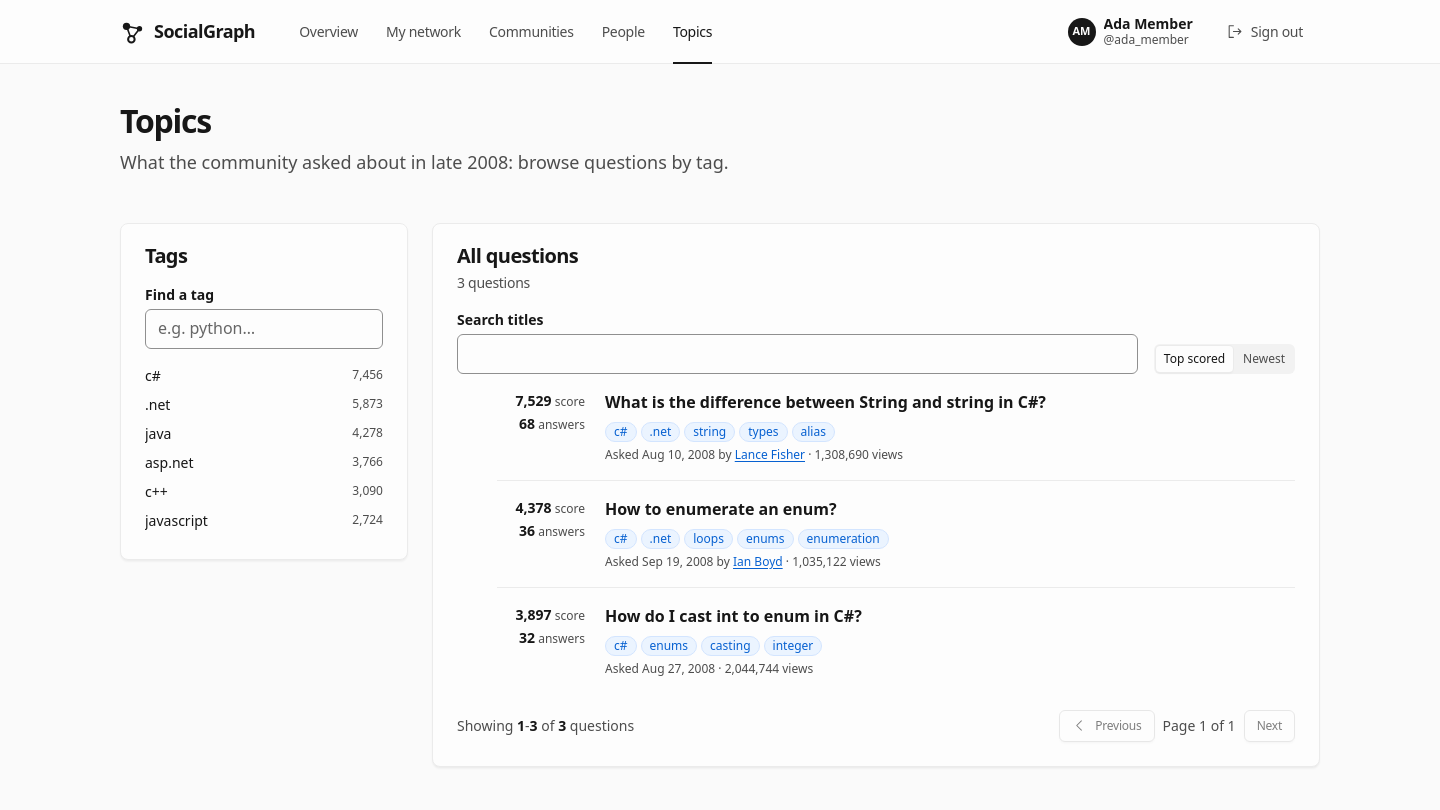
Test: Topics › shows the questions of a tag and clears it again
Expected: the heading "Topics" is shown, left=120, top=99, right=211, bottom=142
Click the link named "c# 7,456 questions" at [368, 375], box left=137, top=361, right=391, bottom=390
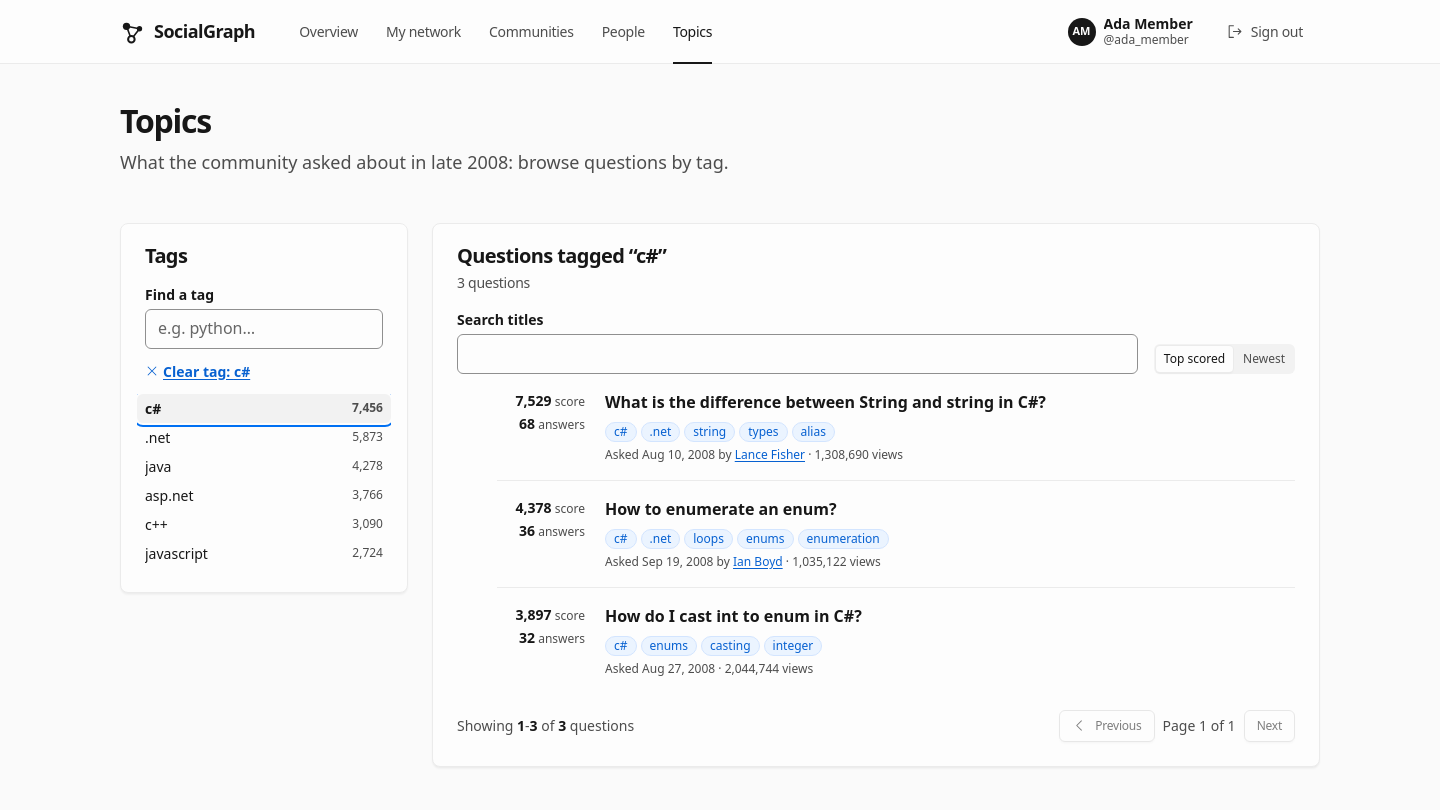
Result: the heading "Questions tagged “c#”" is shown at left=457, top=244, right=666, bottom=268
Click the link "Clear tag: c#" at [198, 371], box left=145, top=362, right=250, bottom=381
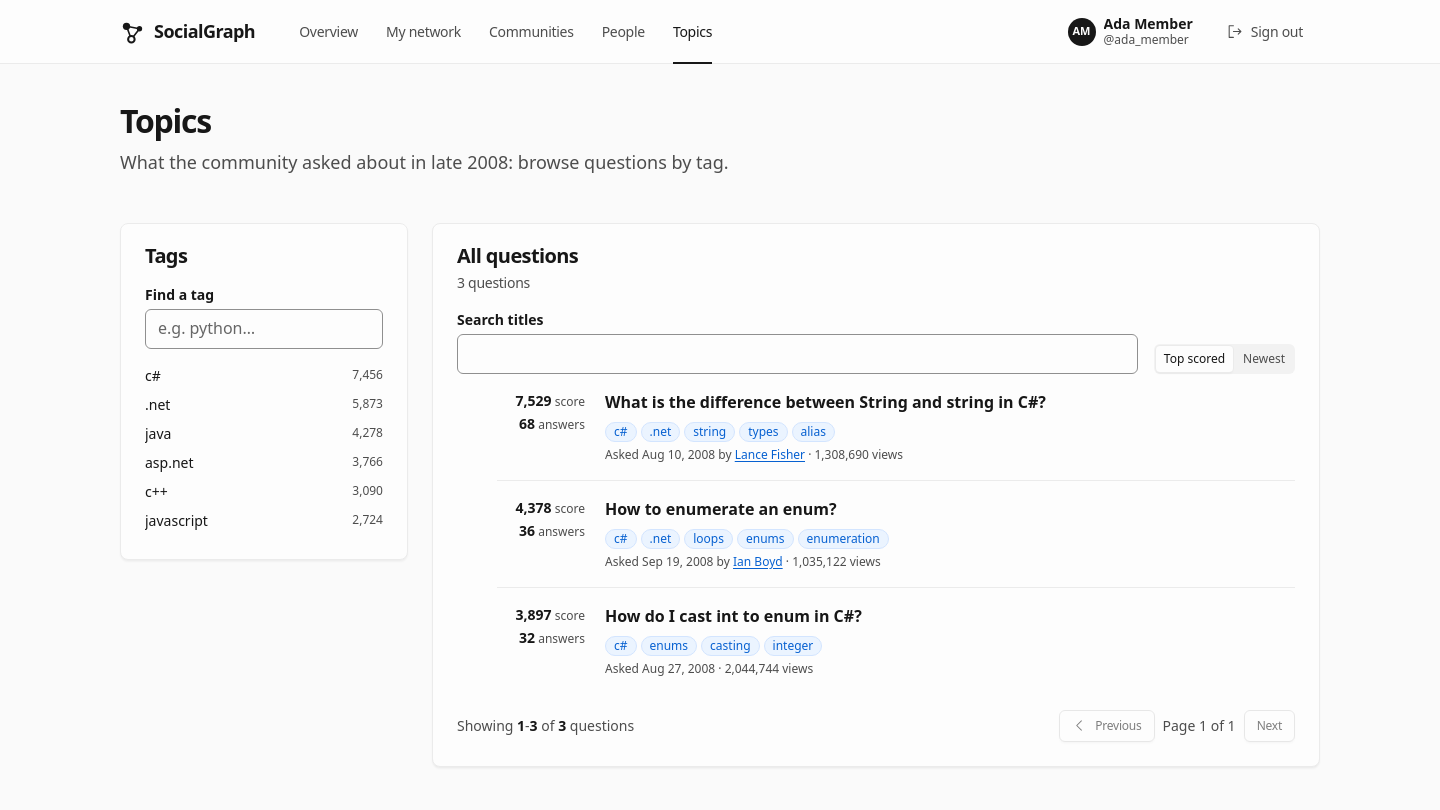
Result: the heading "All questions" is shown at left=457, top=244, right=578, bottom=268
